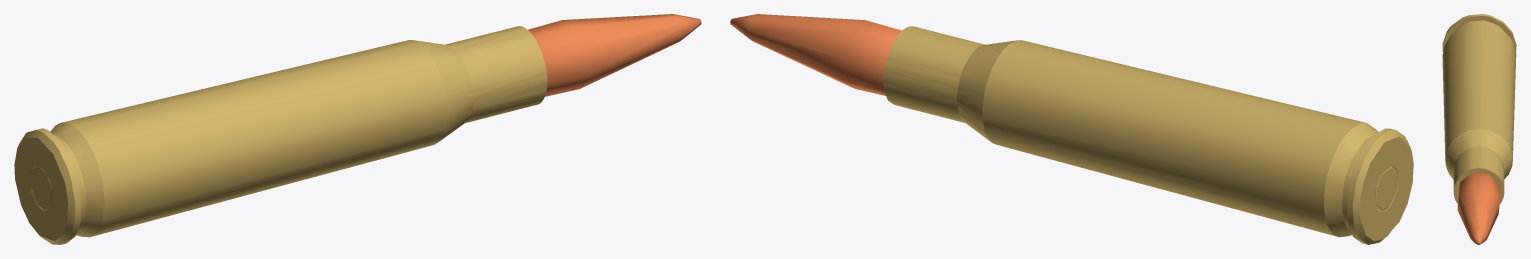
Rendered from SM_ZP_Guns_BAR_Bullet_r1.fbx.
The picture shows the model from 3 angles, left to right: view 1: azimuth 30°, elevation 25°; view 2: azimuth 150°, elevation 25°; view 3: azimuth 270°, elevation 25°; orthographic projection. The views are drawn at different scales.
Visible parts, largest first — view 1: 7mm MAUSER (7X57).001; view 2: 7mm MAUSER (7X57).001; view 3: 7mm MAUSER (7X57).001.
Part boxes in pixels (bbox=[...]): 7mm MAUSER (7X57).001: bbox=[14, 14, 701, 244]; 7mm MAUSER (7X57).001: bbox=[730, 14, 1413, 244]; 7mm MAUSER (7X57).001: bbox=[1442, 14, 1516, 244].
Bounding box in the file's own units: 8.07 × 1.26 × 1.25.
